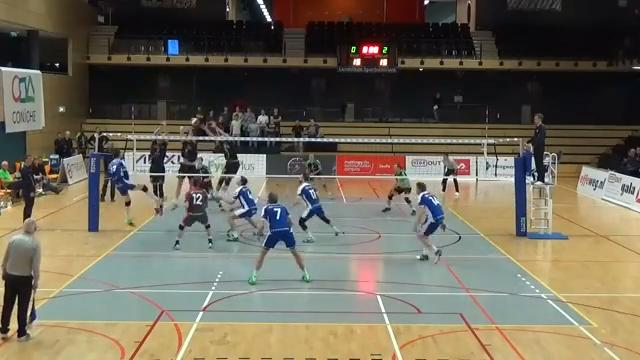attacco: (105, 146, 170, 226)
muro: (202, 113, 243, 200), (146, 117, 170, 220), (174, 120, 199, 215)
